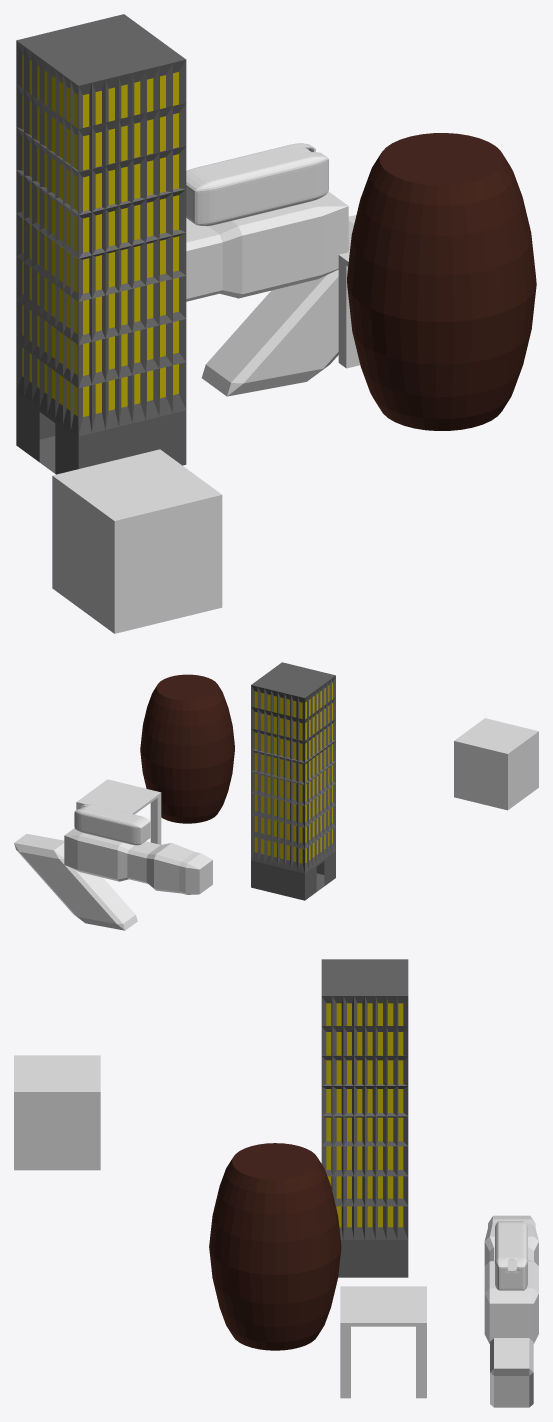
File: Assorted Assets.fbx
3 renders of one model, top to bottom at view 1: azimuth 30°, elevation 25°; view 2: azimuth 150°, elevation 25°; view 3: azimuth 270°, elevation 25°, orthographic. The views are drawn at different scales.
Parts seen in each view (by area): view 1: Building, Water Barrel, Crate, Gun barrel, Hilt, Scope, Table; view 2: Building, Water Barrel, Crate, Gun barrel, Hilt, Table, Scope; view 3: Building, Water Barrel, Crate, Table, Gun barrel, Hilt, Scope.
Part boxes in pixels (x1=…): Building: x1=16, y1=14, x2=186, y2=474; Water Barrel: x1=347, y1=133, x2=536, y2=430; Crate: x1=52, y1=449, x2=222, y2=633; Gun barrel: x1=186, y1=191, x2=348, y2=301; Hilt: x1=201, y1=215, x2=356, y2=396; Scope: x1=186, y1=143, x2=328, y2=226; Table: x1=338, y1=252, x2=359, y2=368; Building: x1=251, y1=662, x2=335, y2=900; Water Barrel: x1=140, y1=674, x2=234, y2=823; Crate: x1=454, y1=718, x2=538, y2=810; Gun barrel: x1=64, y1=828, x2=212, y2=894; Hilt: x1=14, y1=833, x2=137, y2=930; Table: x1=76, y1=779, x2=161, y2=844; Scope: x1=74, y1=804, x2=150, y2=845; Building: x1=321, y1=959, x2=408, y2=1277; Water Barrel: x1=209, y1=1143, x2=341, y2=1350; Crate: x1=14, y1=1055, x2=100, y2=1170; Table: x1=340, y1=1286, x2=426, y2=1398; Gun barrel: x1=484, y1=1215, x2=538, y2=1343; Hilt: x1=490, y1=1338, x2=533, y2=1407; Scope: x1=495, y1=1221, x2=527, y2=1290.
Bounding box in the file's own units: 1261 × 838 × 1212.
